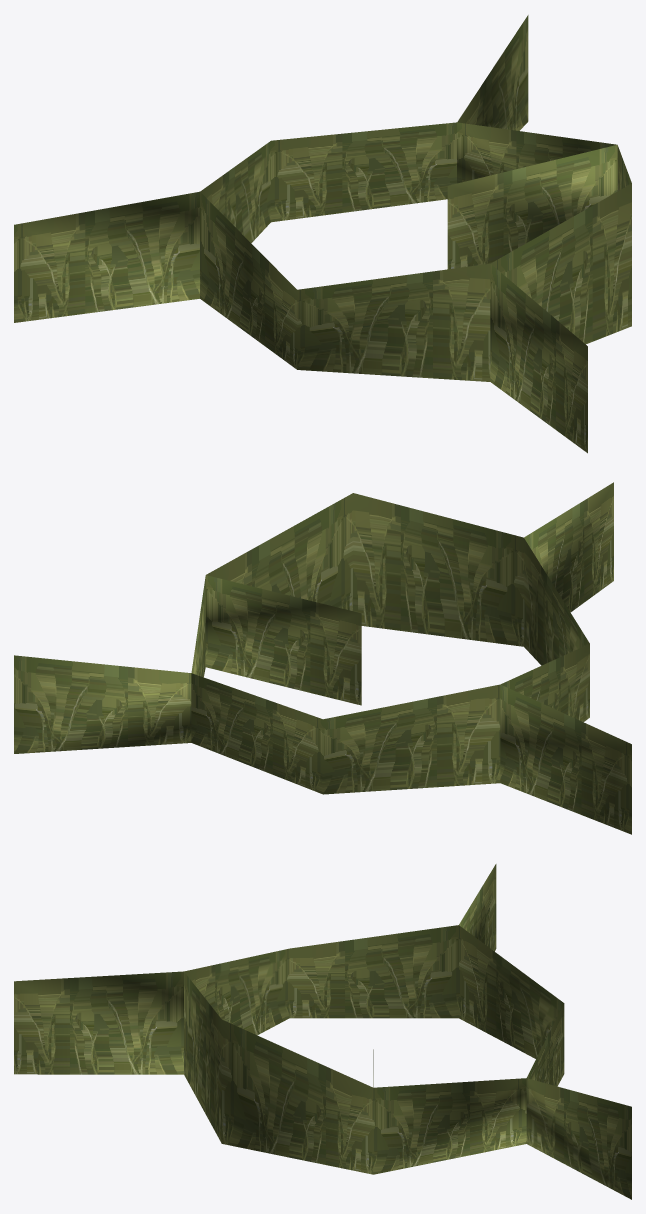
The model's file is mveg1as.glb.
3 views of the same model, one above another, from view 1: azimuth 30°, elevation 25°; view 2: azimuth 150°, elevation 25°; view 3: azimuth 270°, elevation 25° (orthographic). The views are drawn at different scales.
Visible parts, largest first — view 1: _mveg1as; view 2: _mveg1as; view 3: _mveg1as.
Part boxes in pixels (bbox=[...]): _mveg1as: bbox=[14, 15, 631, 453]; _mveg1as: bbox=[14, 482, 631, 834]; _mveg1as: bbox=[14, 864, 631, 1199].
Size of the model in its own units: 4.71 by 1.09 by 4.89.
Materials: 1 (1 with a texture image).
